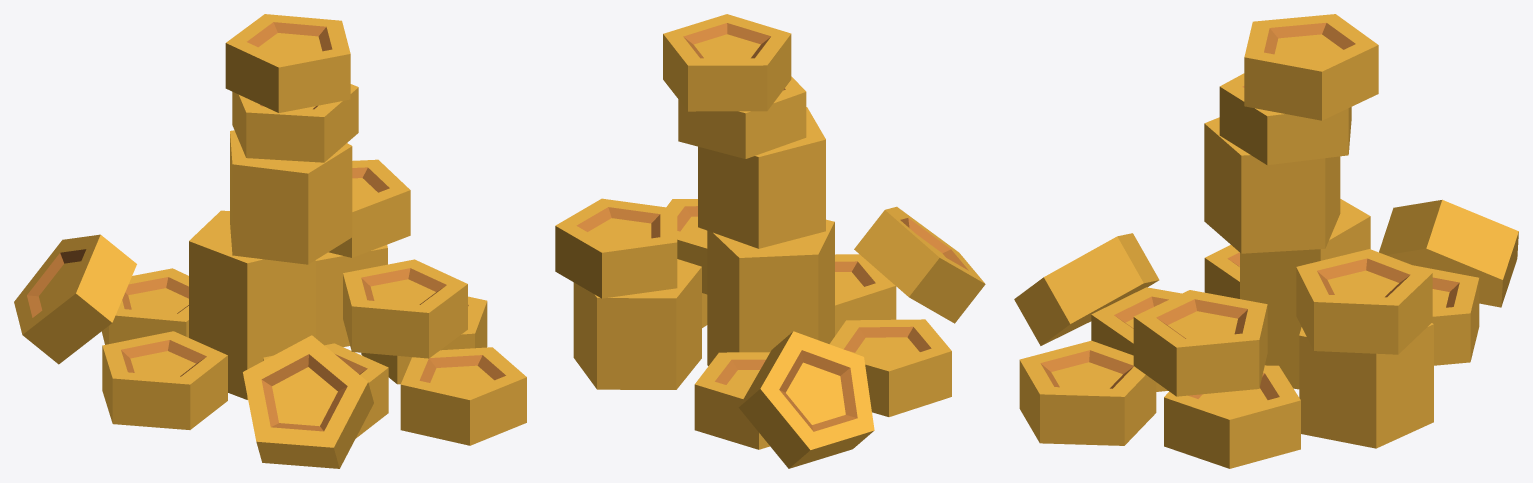
Rendered from Mesh_GoldStack.fbx.
The picture shows the model from 3 angles, left to right: view 1: azimuth 30°, elevation 25°; view 2: azimuth 150°, elevation 25°; view 3: azimuth 270°, elevation 25°; orthographic projection. The views are drawn at different scales.
Visible parts, largest first — view 1: SM_GoldStack; view 2: SM_GoldStack; view 3: SM_GoldStack.
Part boxes in pixels (x1,y1,x2,y2): SM_GoldStack: (14,14,526,468); SM_GoldStack: (555,14,985,468); SM_GoldStack: (1014,14,1518,468).
Size of the model in its own units: 0.6327 by 0.5278 by 0.6995.
